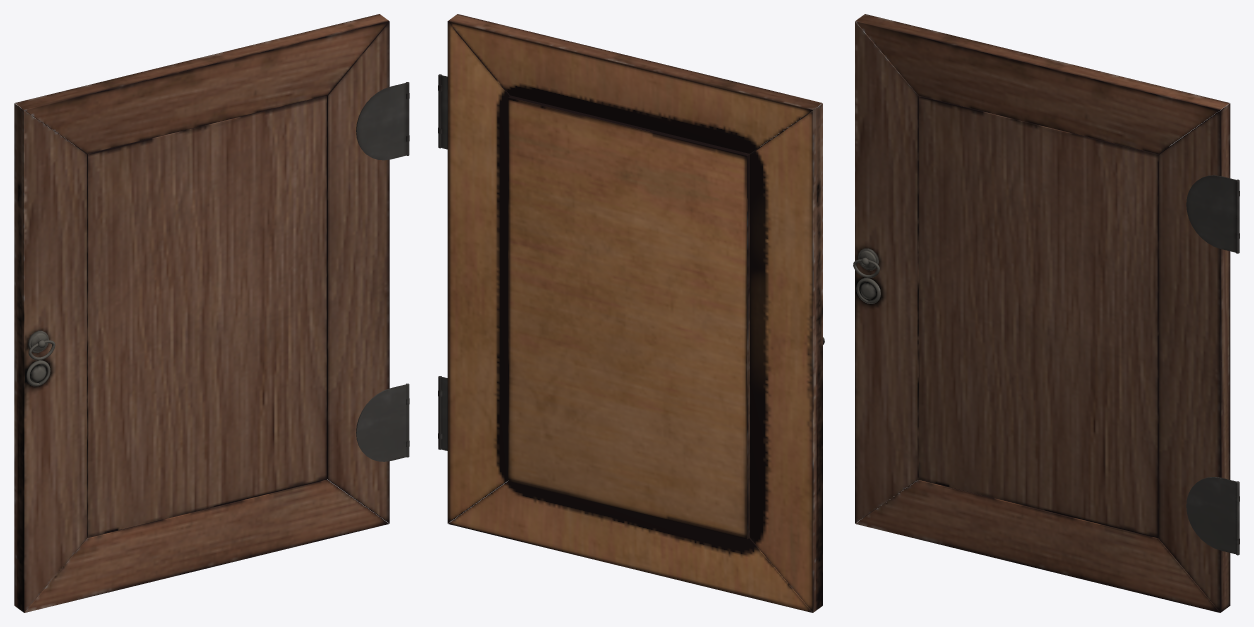
The model's file is SM_CupBoard205_DoorR.fbx.
The picture shows the model from 3 angles, left to right: view 1: azimuth 30°, elevation 25°; view 2: azimuth 150°, elevation 25°; view 3: azimuth 330°, elevation 25°; orthographic projection.
Parts seen in each view (by area): view 1: SM_CupBoard205_DoorR; view 2: SM_CupBoard205_DoorR; view 3: SM_CupBoard205_DoorR.
Part boxes in pixels (x1=…): SM_CupBoard205_DoorR: x1=14, y1=14, x2=409, y2=612; SM_CupBoard205_DoorR: x1=438, y1=14, x2=824, y2=612; SM_CupBoard205_DoorR: x1=853, y1=14, x2=1239, y2=612.
Bounding box in the file's own units: 45.09 × 56.3 × 3.47.
1 material, 1 textured.
